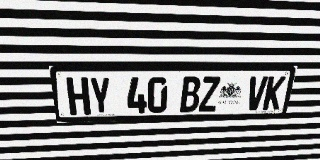0: (147, 77, 168, 113)
4: (127, 77, 147, 114)
B: (180, 77, 201, 112)
H: (66, 77, 91, 115)
K: (262, 76, 286, 110)
V: (245, 76, 268, 110)
Y: (89, 77, 112, 115)
Z: (198, 77, 221, 112)
